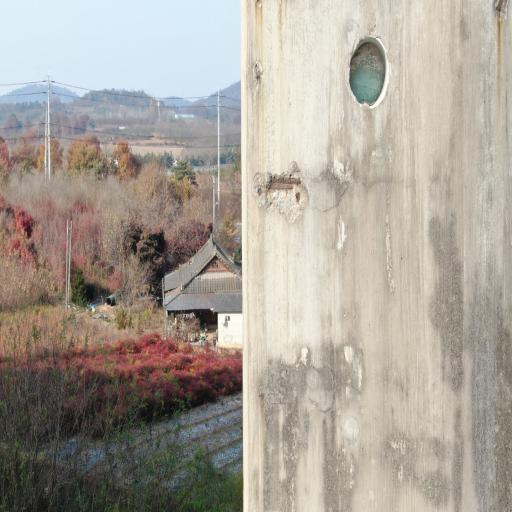exposed_rebar: (269, 176, 301, 190)
